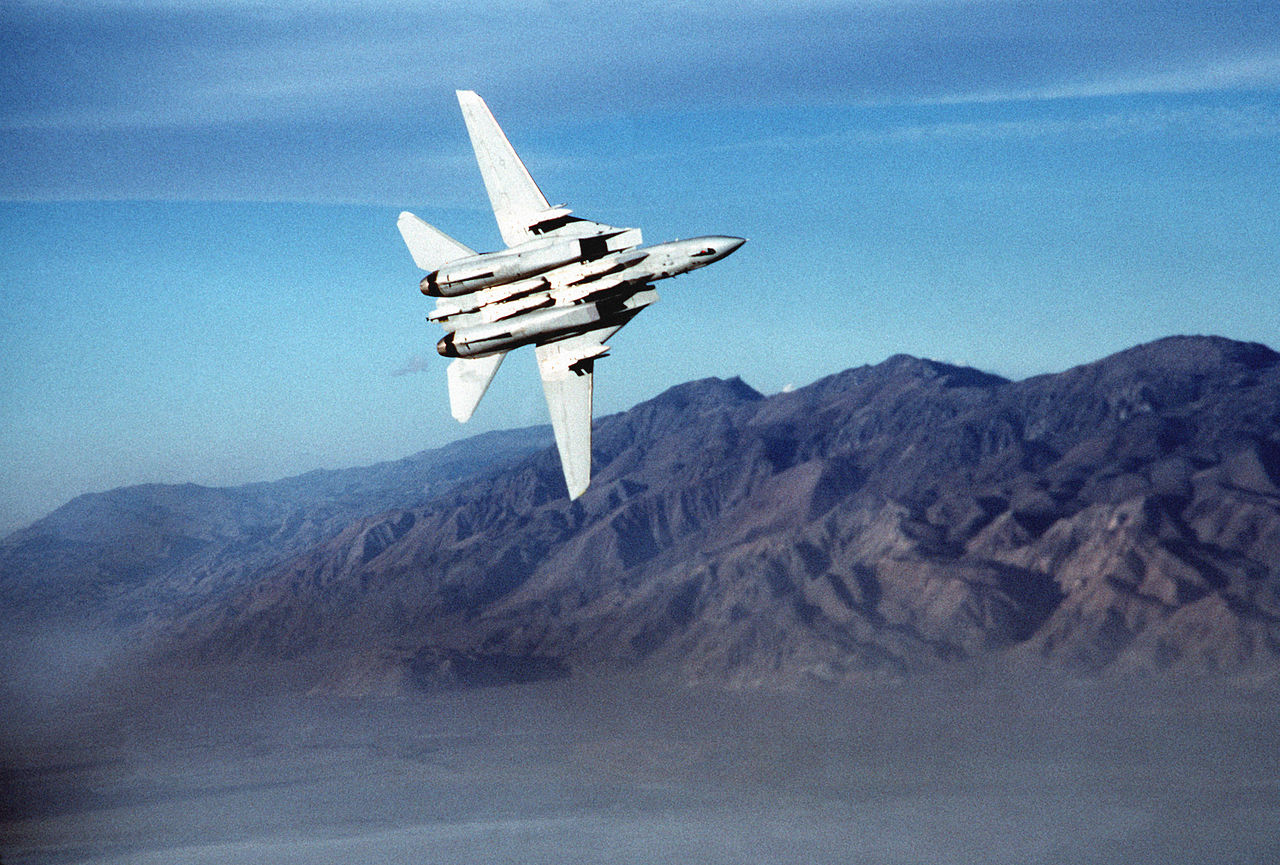F14: (396, 89, 752, 502)
